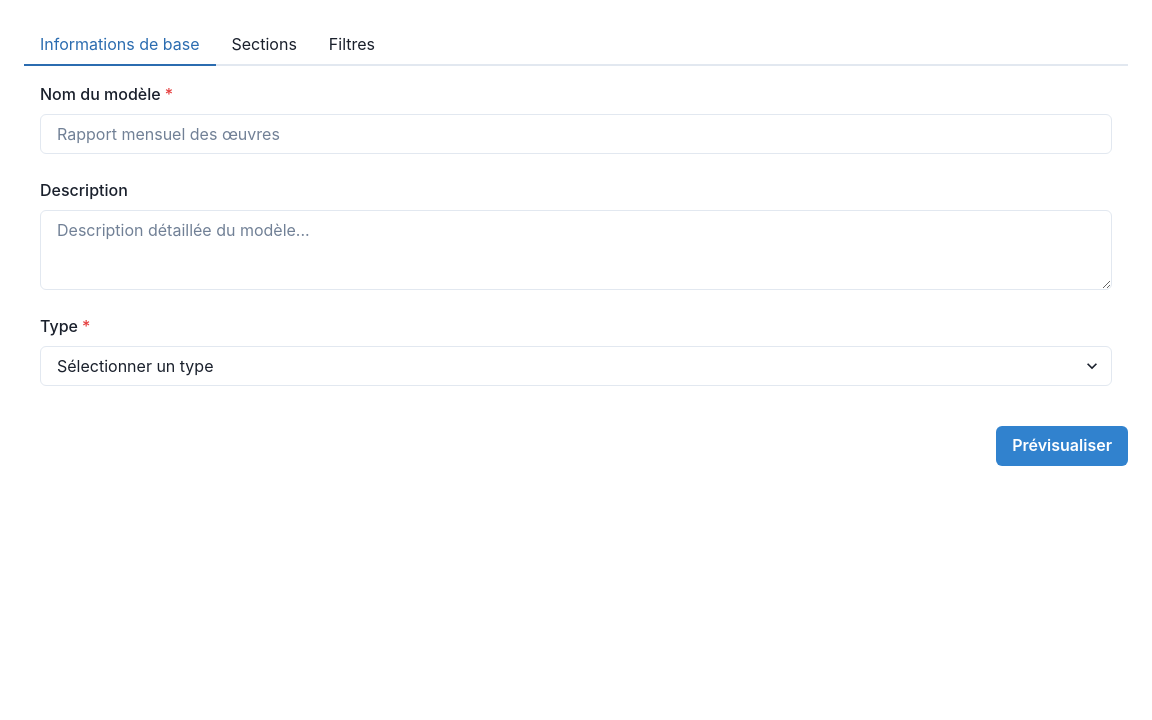
Test: VisualEditor › shows validation warning when trying to preview without required fields
The width and height of the screenshot is (1152, 720).
Click the button "Prévisualiser". click: (1062, 446)
box: top-left (996, 426), bottom-right (1128, 466)
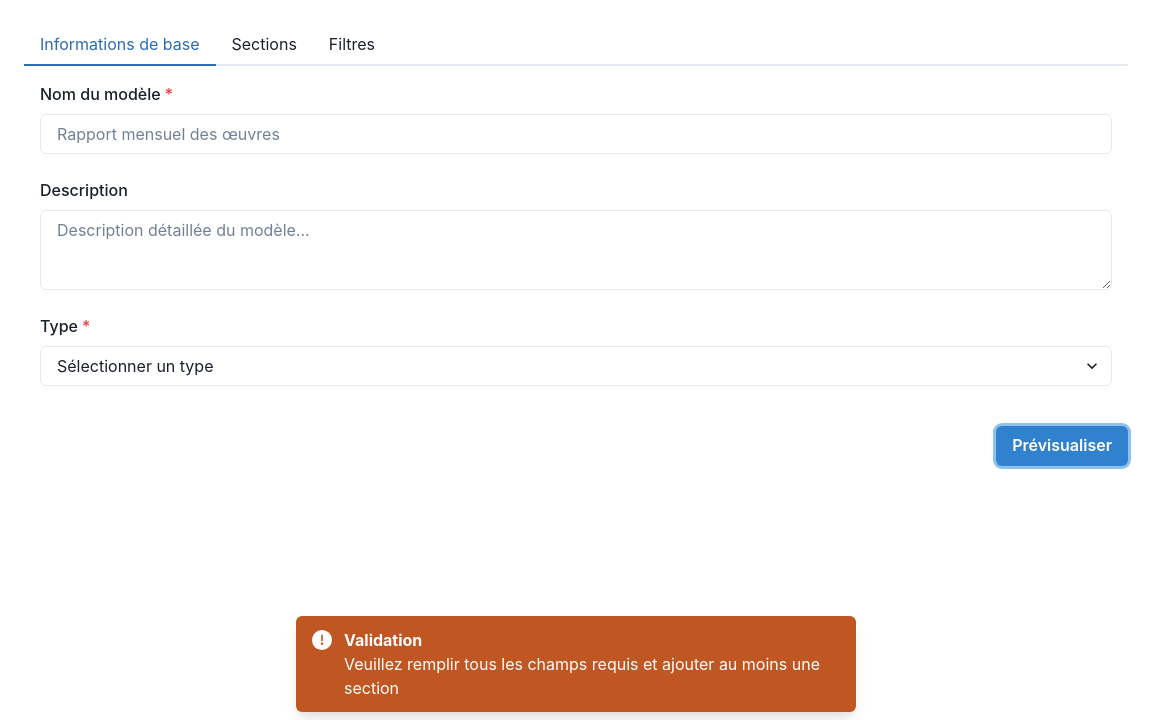
Expected: the text "Veuillez remplir tous les champs requis" is shown, top-left (344, 654), bottom-right (820, 698)
